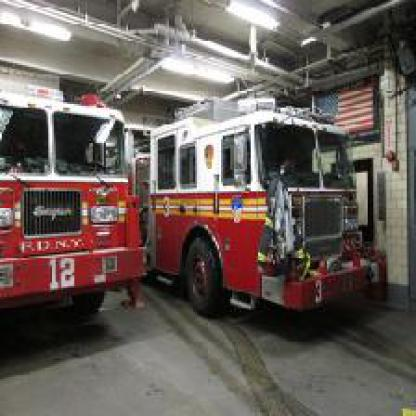emergency: (132, 96, 390, 318), (2, 59, 152, 355)
